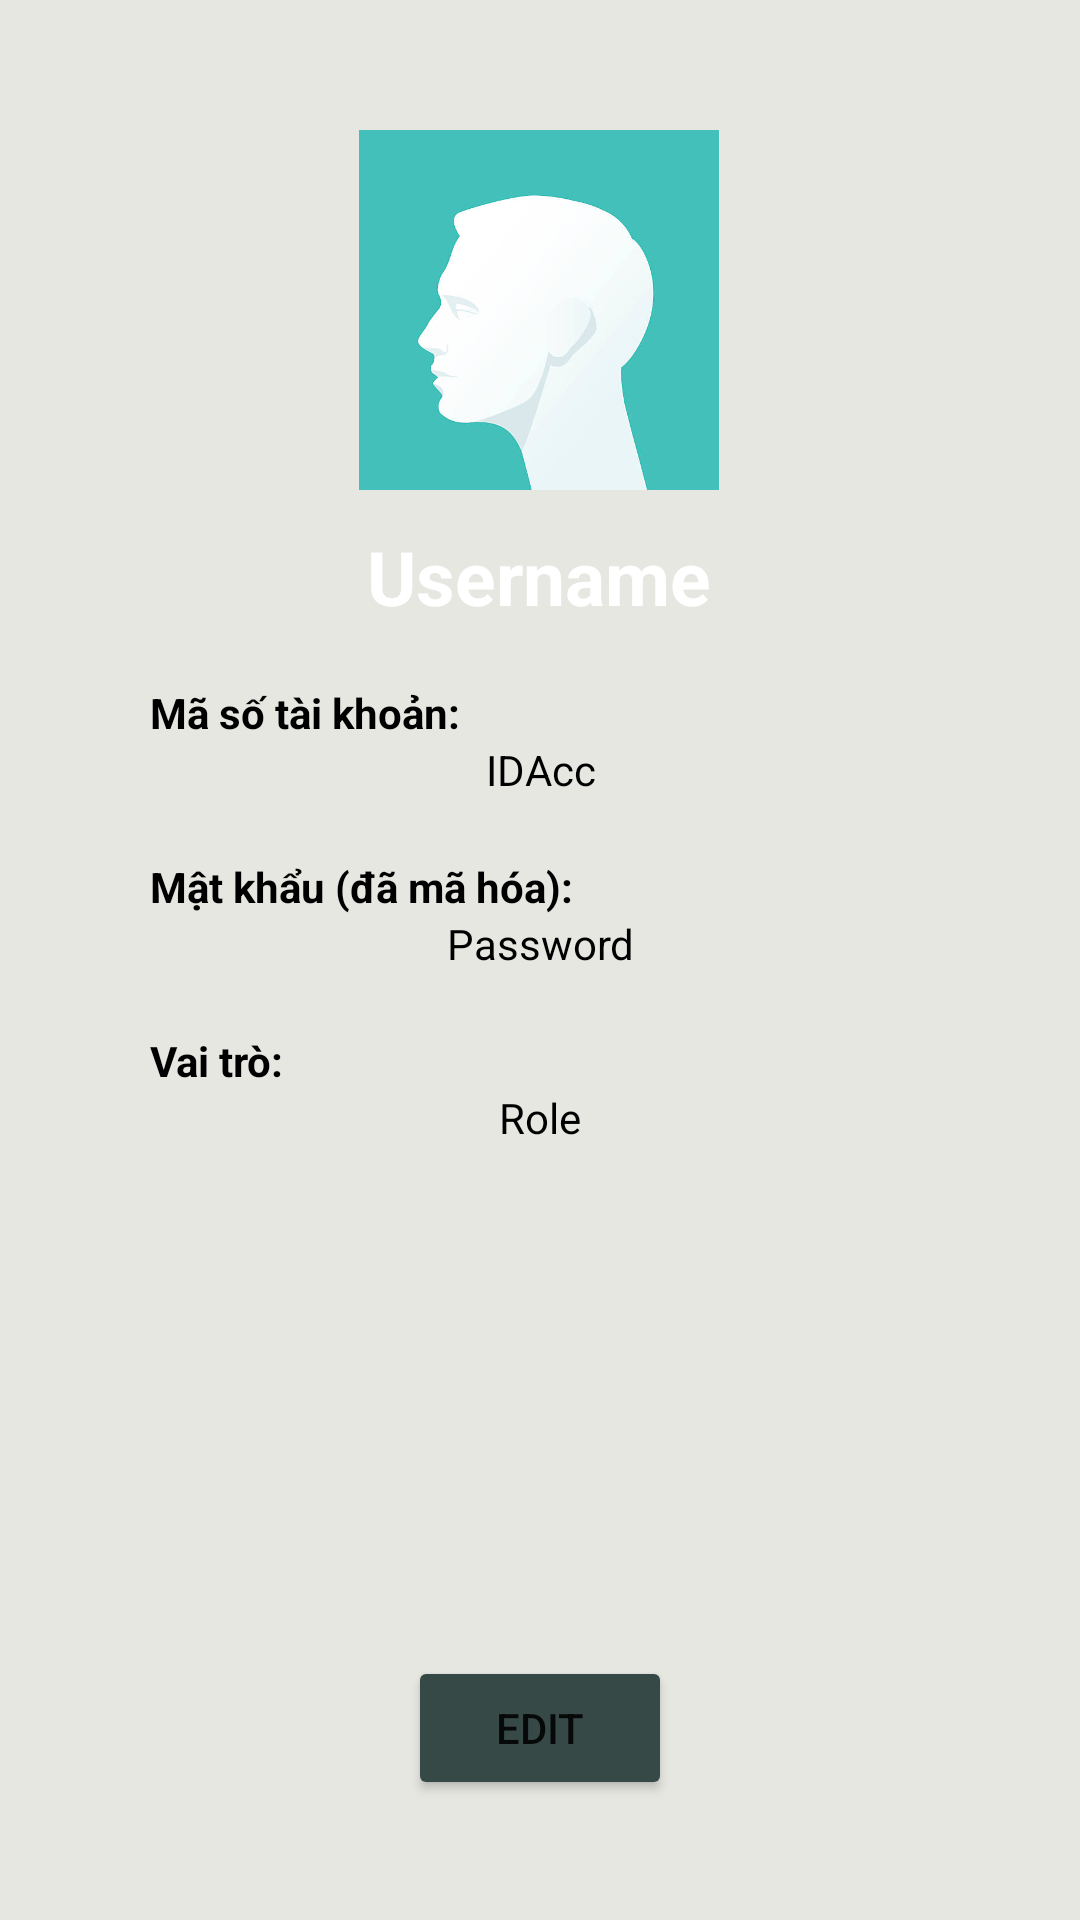

Screen size 1080×1920. Icon name, then its center in pixels as point (x, y):
human: point (539, 310)
